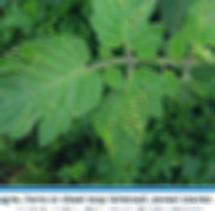Tomato leaf bacterial spot: (0, 30, 101, 147), (93, 66, 169, 169), (81, 0, 162, 63), (179, 0, 215, 55)
